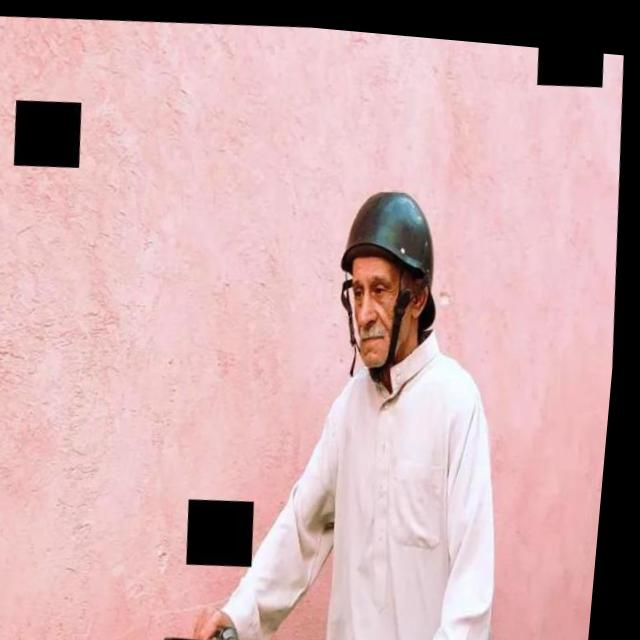helmet: (333, 177, 453, 380)
